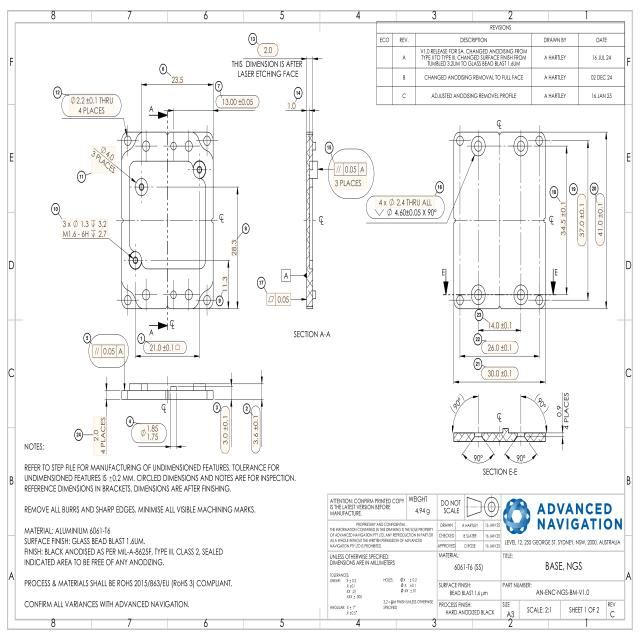dimension: (333, 161, 368, 190), (61, 219, 108, 239), (70, 95, 114, 115), (91, 146, 115, 173), (376, 196, 434, 207), (92, 416, 106, 456), (556, 390, 569, 431), (577, 194, 586, 246), (92, 344, 125, 358), (220, 96, 258, 108), (220, 410, 230, 454), (449, 392, 466, 416), (532, 392, 550, 414), (148, 342, 183, 353), (486, 341, 514, 354), (485, 367, 515, 379), (140, 423, 159, 441), (267, 292, 291, 306), (596, 199, 603, 245), (559, 200, 567, 237), (258, 44, 278, 56), (488, 321, 511, 331), (253, 415, 259, 448), (171, 75, 184, 85), (231, 239, 238, 256), (472, 452, 485, 461), (516, 452, 527, 462), (222, 276, 228, 292), (287, 101, 296, 111)
